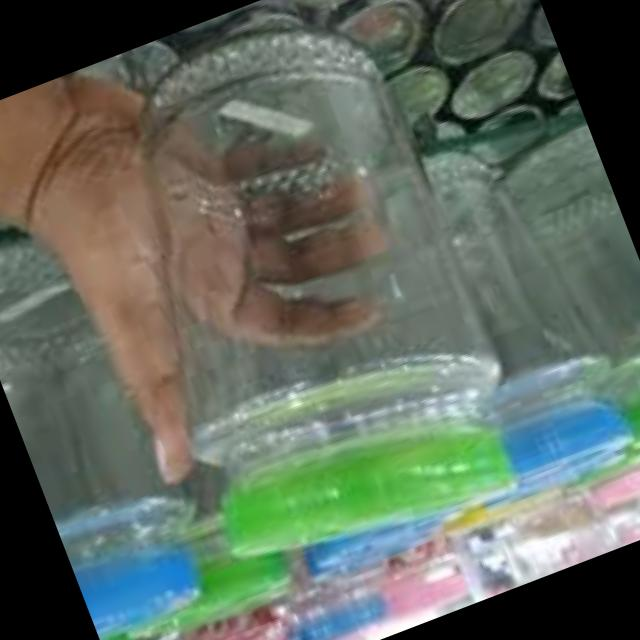ToplesKaca: (50, 0, 560, 597)
